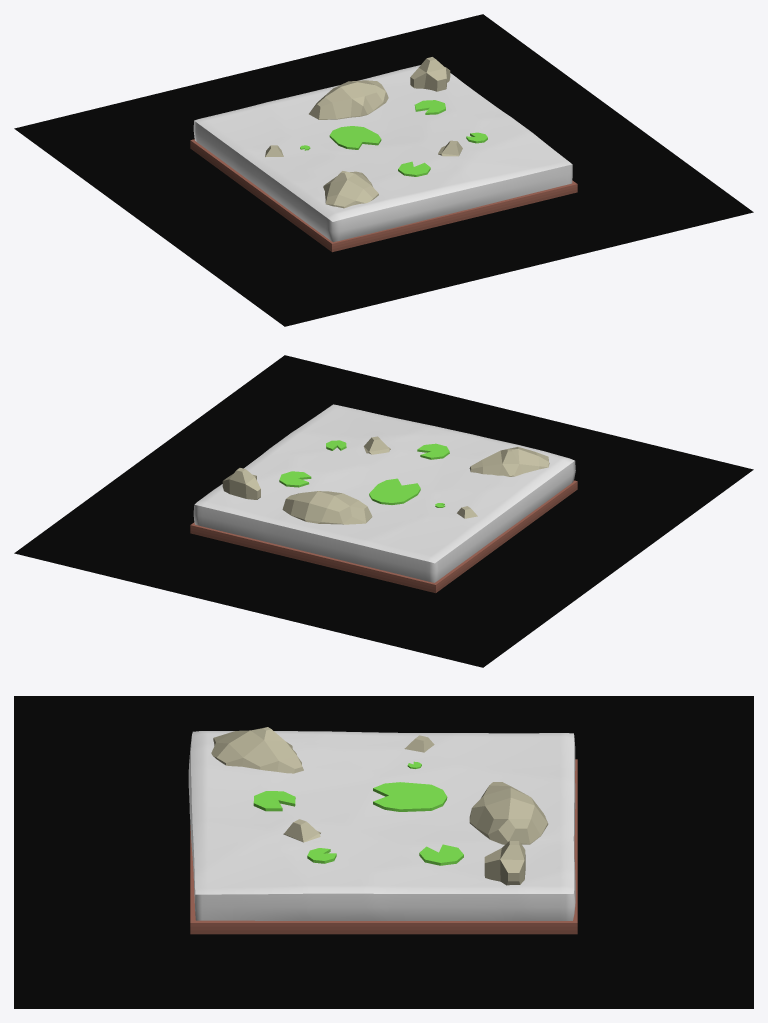
The model's file is Water foam.fbx.
3 renders of one model, top to bottom at view 1: azimuth 30°, elevation 25°; view 2: azimuth 150°, elevation 25°; view 3: azimuth 270°, elevation 25°, orthographic. The views are drawn at different scales.
Visible parts, largest first — view 1: AO, Water, Plane.001, Rock.002, Rock, Rock.001, Circle.004; view 2: AO, Water, Plane.001, Rock.002, Rock, Circle.004, Rock.001; view 3: AO, Water, Plane.001, Rock.002, Rock, Circle.004, Rock.001, Circle.002, Circle.001, Rock.009.
Part boxes in pixels (box(x1,y1,x2,y2)): AO: box(14, 14, 753, 326); Water: box(193, 65, 572, 242); Plane.001: box(190, 139, 577, 252); Rock.002: box(309, 80, 388, 119); Rock: box(323, 171, 378, 208); Rock.001: box(410, 57, 450, 91); Circle.004: box(329, 126, 381, 149); AO: box(14, 355, 753, 667); Water: box(193, 404, 575, 582); Plane.001: box(190, 480, 577, 593); Rock.002: box(282, 491, 372, 524); Rock: box(469, 447, 549, 476); Circle.004: box(369, 478, 420, 504); Rock.001: box(222, 468, 260, 499); AO: box(14, 696, 753, 1008); Water: box(188, 731, 575, 920); Plane.001: box(190, 759, 577, 934); Rock.002: box(469, 782, 548, 844); Rock: box(211, 727, 303, 773); Circle.004: box(373, 782, 447, 811); Rock.001: box(484, 841, 525, 885); Circle.002: box(253, 791, 295, 811); Circle.001: box(419, 844, 463, 865); Rock.009: box(283, 819, 320, 842).
Bounding box in the file's own units: 472 × 73.37 × 472.
